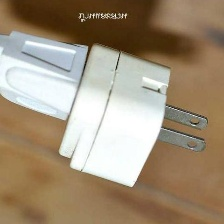three_eye_plug: (52, 38, 213, 196)
